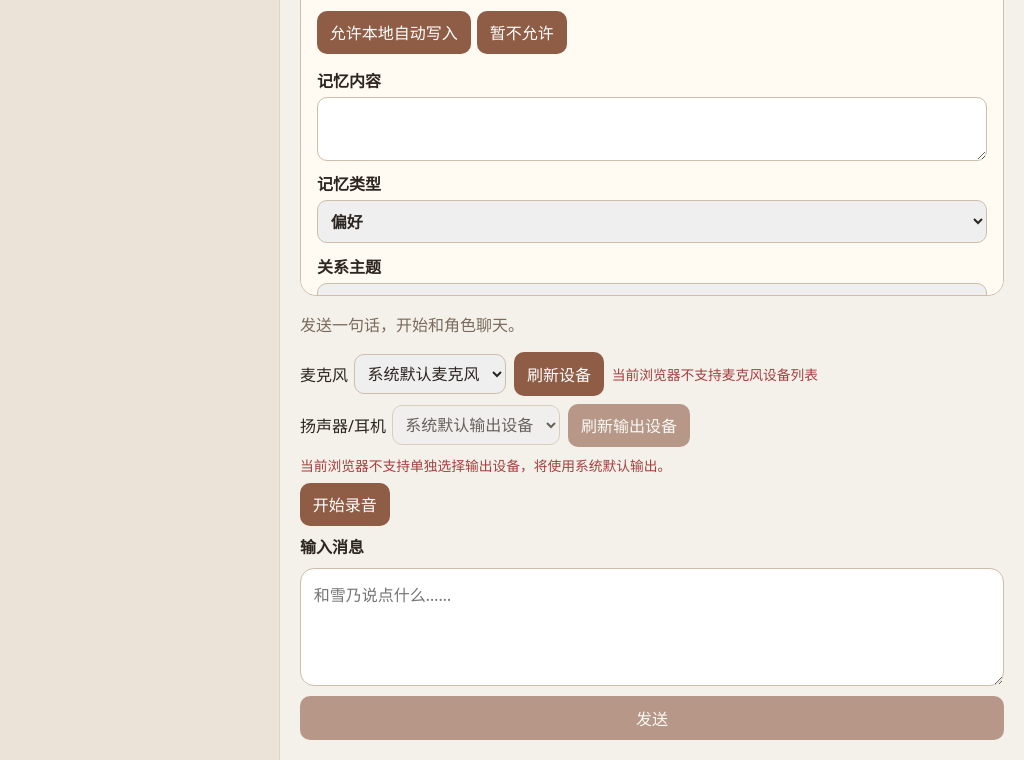
App › shows VAD auto-stop status while recording when VAD is active
(page scrolled)
Click the button "开始录音" at (345,504), box [300,483,390,526]
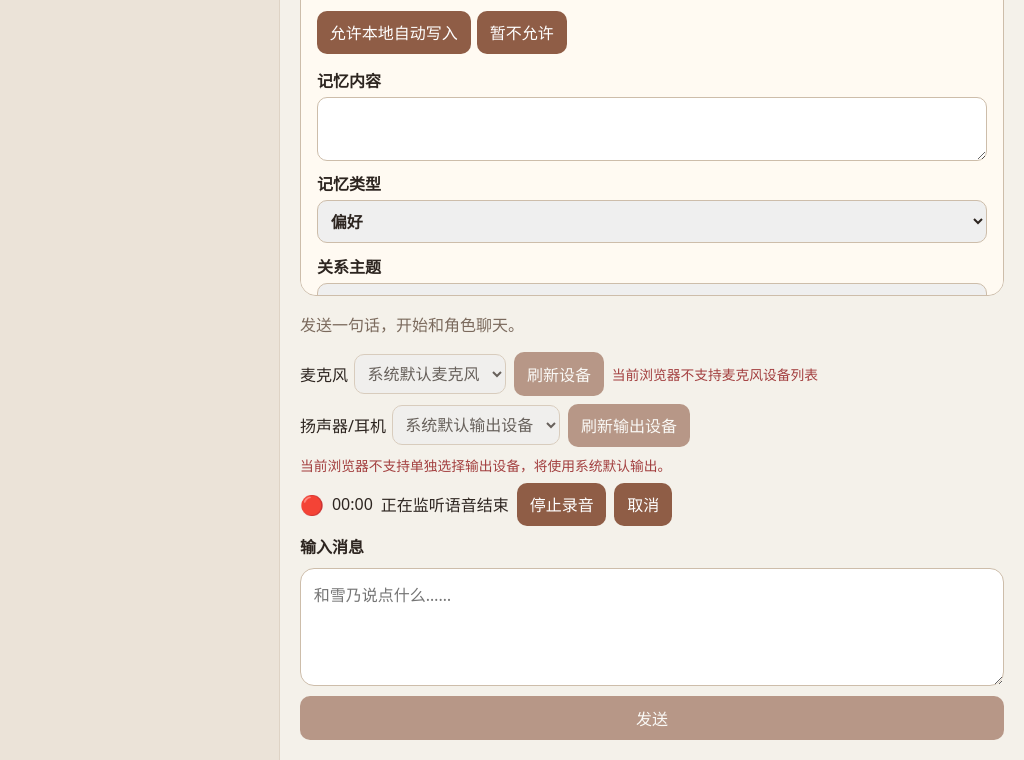
Result: the text "正在监听语音结束" is shown at [381,492,509,516]
Result: the button "停止录音" is shown at [517,483,606,526]
Result: the button with aria-label "取消录音" is shown at [614,483,672,526]
